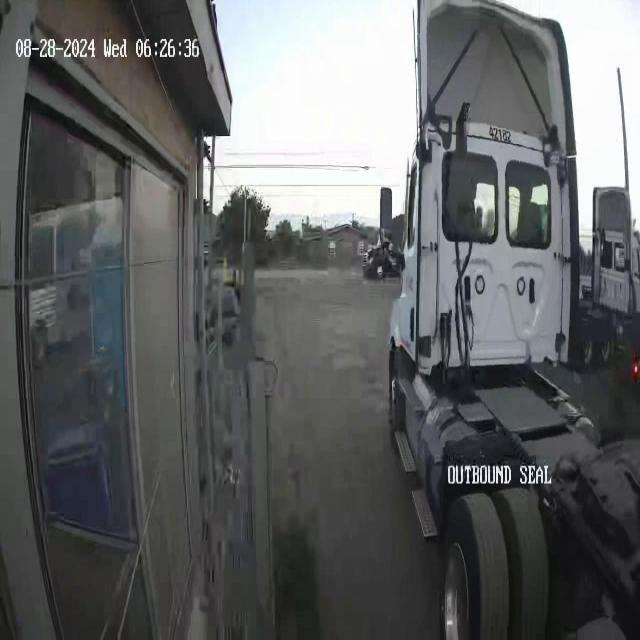TRUCK_OUT: (385, 0, 639, 638)
